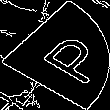P_NW: (11, 25, 99, 85)
